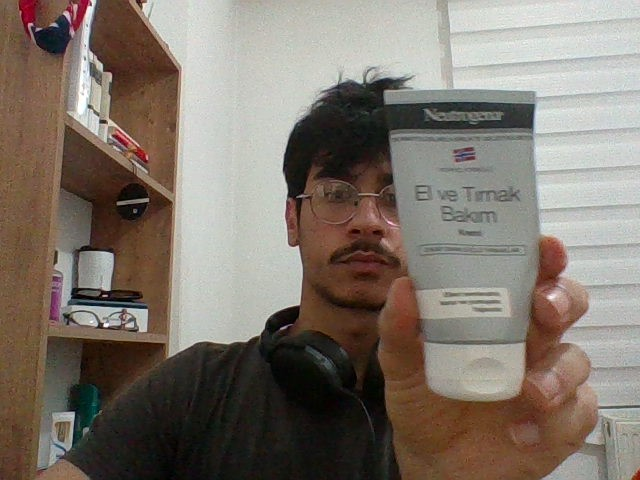Neutrogena: (384, 88, 538, 402)
